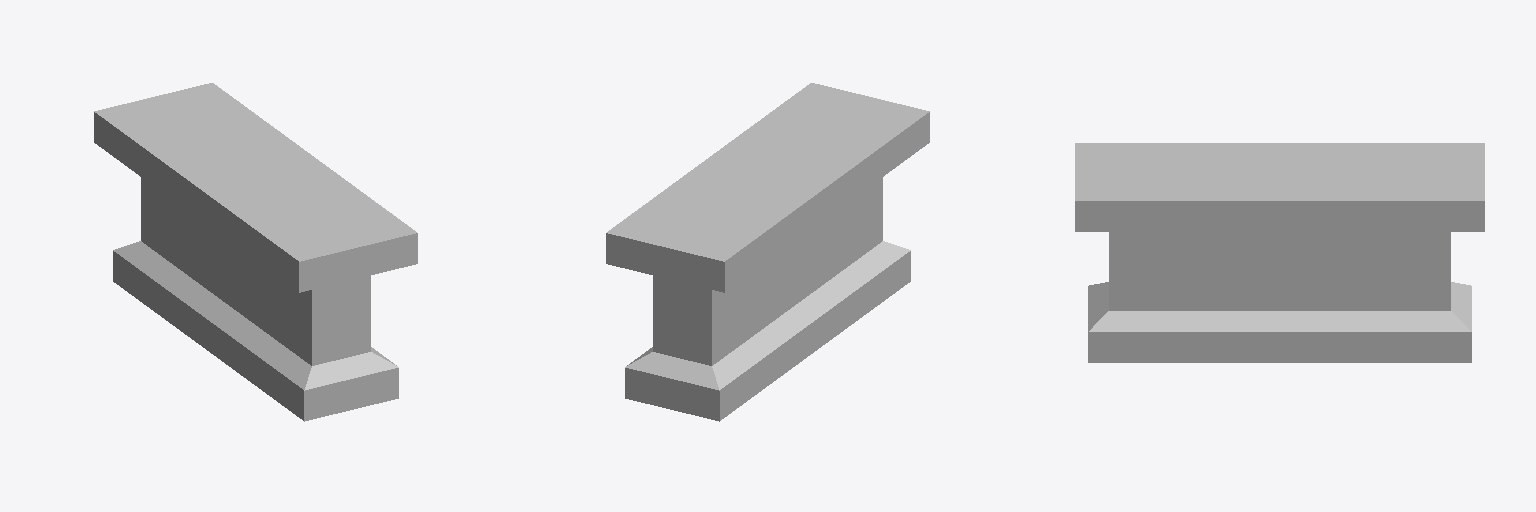
File: altar_1_003.obj
3 renders of one model, left to right at view 1: azimuth 30°, elevation 25°; view 2: azimuth 150°, elevation 25°; view 3: azimuth 270°, elevation 25°, orthographic.
Visible parts, largest first — view 1: Cube.001; view 2: Cube.001; view 3: Cube.001.
Boxes of the visible parts, x1=… form: Cube.001: x1=94, y1=83, x2=417, y2=421; Cube.001: x1=606, y1=83, x2=929, y2=421; Cube.001: x1=1075, y1=143, x2=1484, y2=362.
Bounding box in the file's own units: 1 × 1.35 × 3.